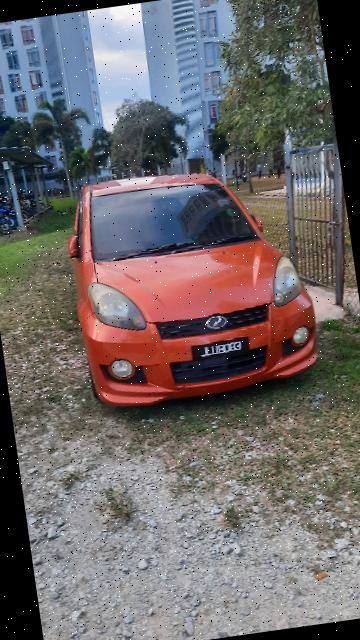License_Plate: (188, 332, 261, 365)
car: (52, 149, 331, 418)
